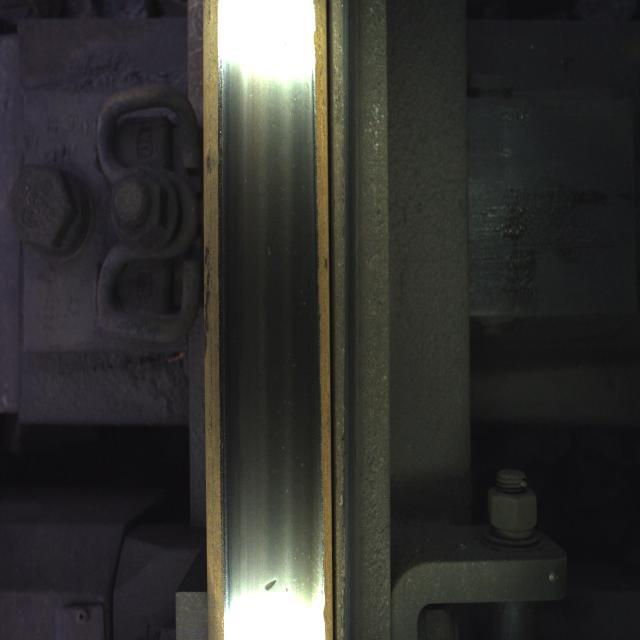break: (215, 46, 311, 502)
